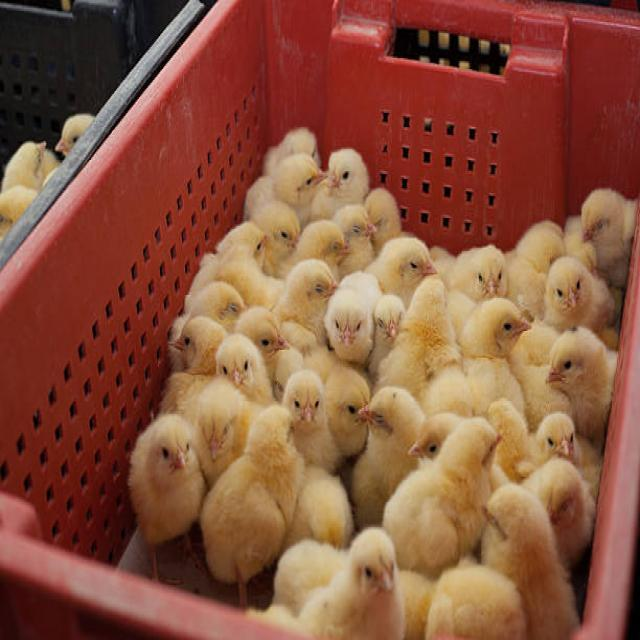Healthy: (114, 408, 210, 573), (317, 515, 414, 640), (540, 328, 630, 450)
